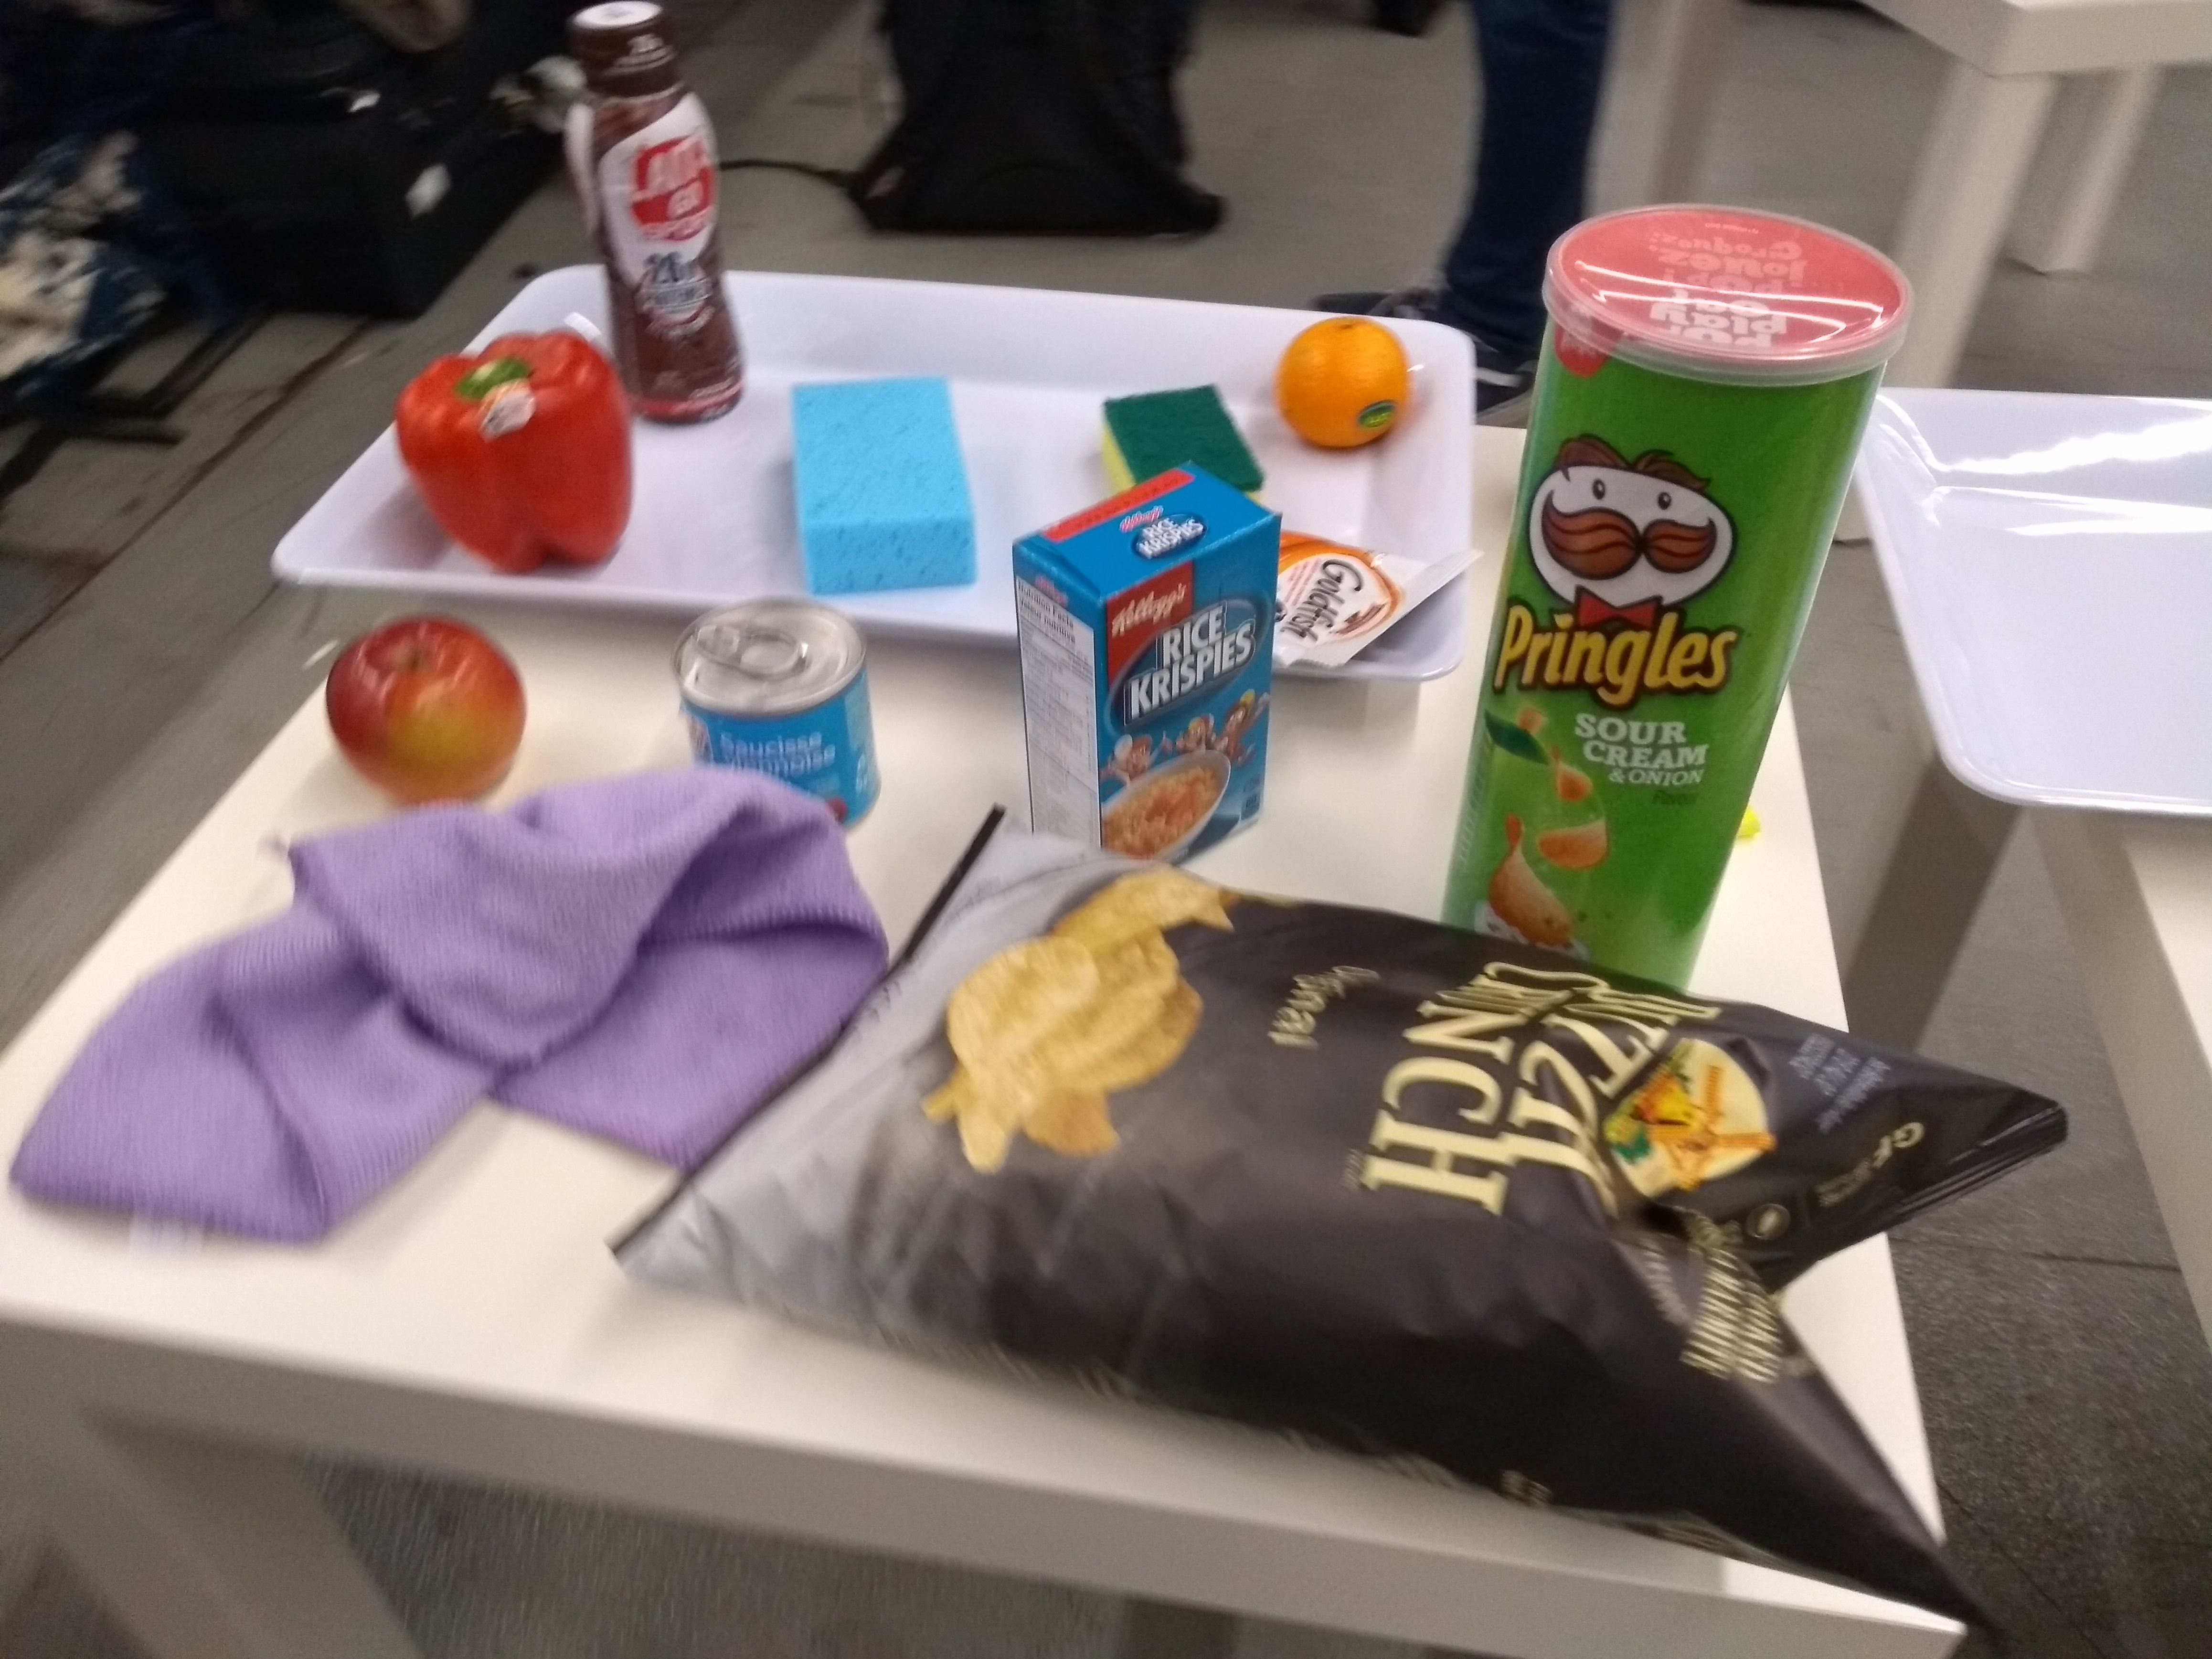apple: (317, 605, 535, 817)
cereal: (1007, 458, 1291, 887)
chocolate_drink: (550, 0, 759, 436)
orange: (1275, 314, 1414, 453)
paprika: (385, 319, 646, 587)
potato_chips: (590, 791, 2076, 1645)
pringles: (1418, 188, 1926, 1002)
scrubby: (1094, 376, 1268, 504)
sponge_opl: (775, 366, 988, 608)
